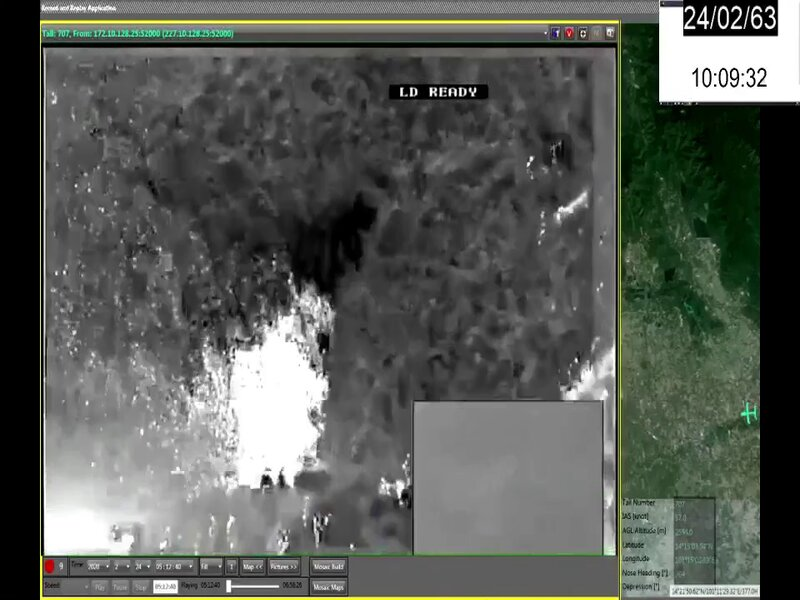Fire: (189, 310, 331, 489)
